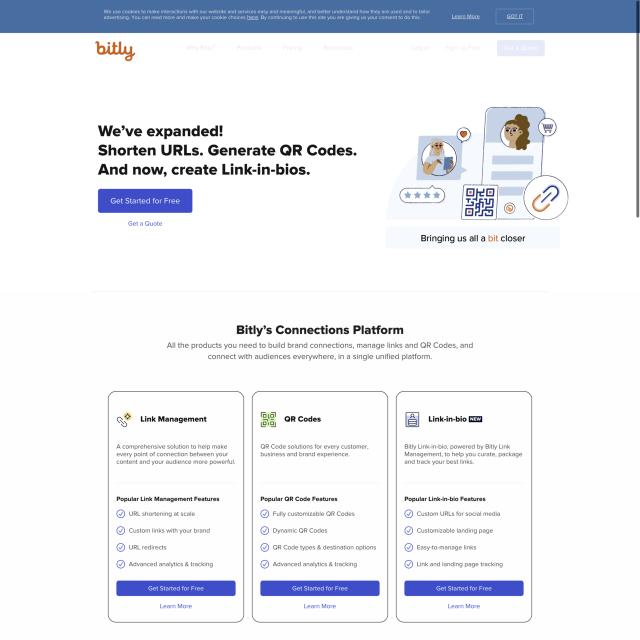logo: (91, 37, 138, 64)
navigation: (184, 43, 356, 52)
